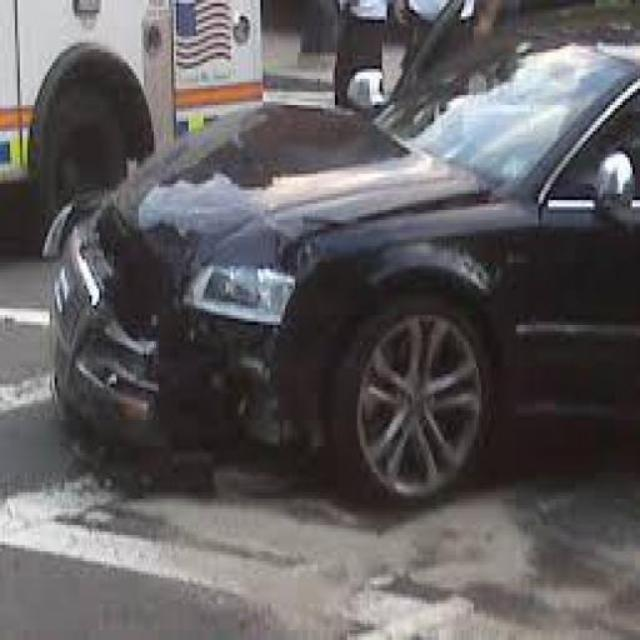dislocated part: (65, 187, 324, 472)
